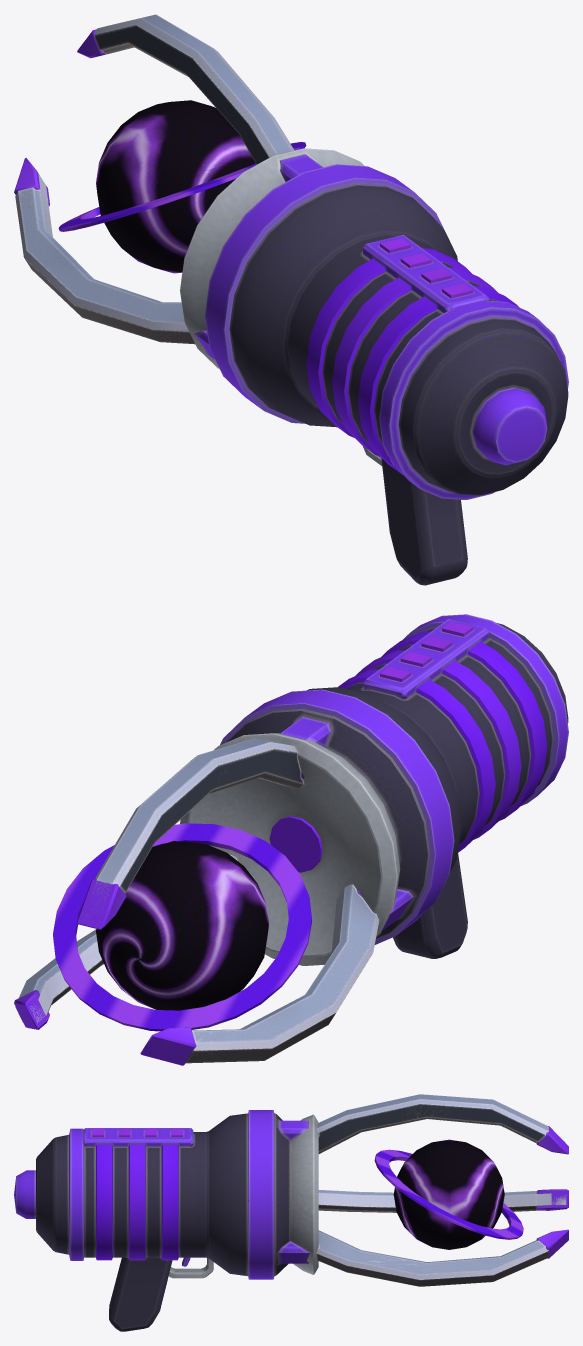
File: blackhole.glb
3 views of the same model, one above another, from view 1: azimuth 30°, elevation 25°; view 2: azimuth 150°, elevation 25°; view 3: azimuth 270°, elevation 25° (orthographic). The views are drawn at different scales.
Parts seen in each view (by area): view 1: blackhole, core; view 2: blackhole, core; view 3: blackhole, core.
Boxes of the visible parts, x1,y1,x2,y2 form: blackhole: (14,14,568,585); core: (58,100,306,273); blackhole: (14,614,568,1065); core: (53,823,312,1031); blackhole: (14,1094,568,1331); core: (374,1139,523,1249).
Bounding box in the file's own units: 0.2643 × 0.3474 × 0.7587.
9 materials, 9 textured.
